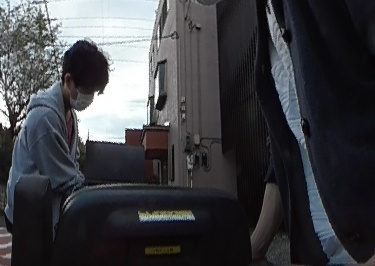person: (5, 38, 108, 202)
